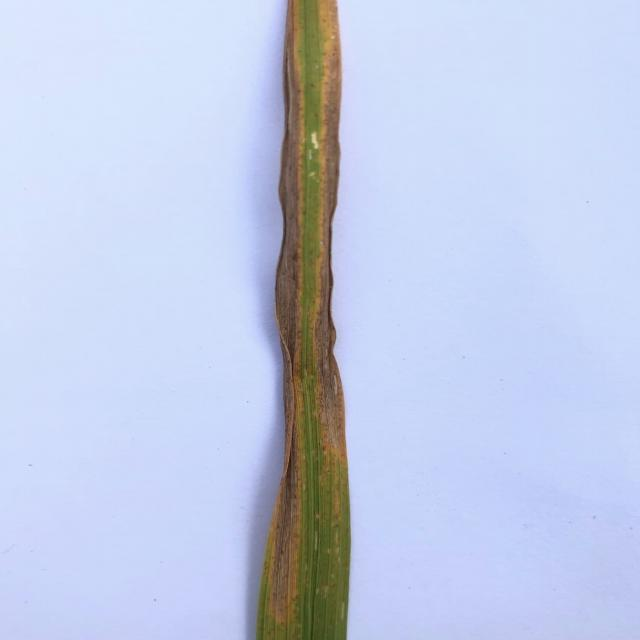tungro: (255, 0, 303, 640), (314, 0, 352, 481)
